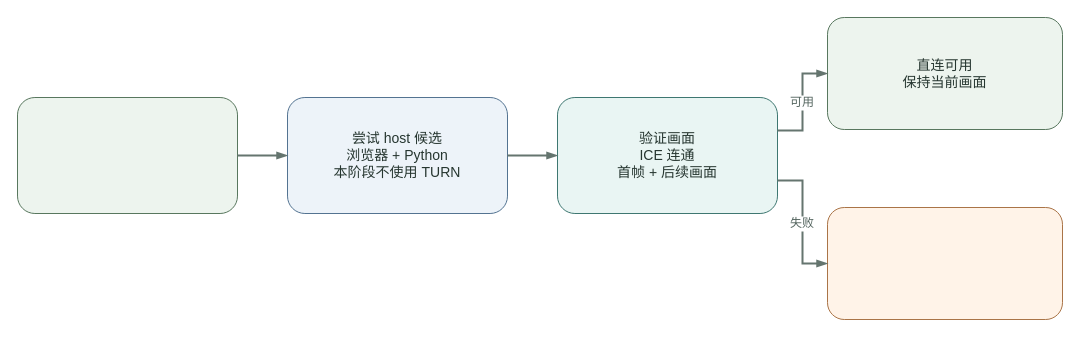
The diagram is 1080 pixels wide and 337 high, and some of its shapes have lost their labels. The shapes that lost their labels are listed below. From the top down, each one's box as (x1, y1, x2, y2) in pixels, then its label:
(16, 96, 238, 214): 打开网站 稳定域名经 Tunnel 网页入口可达
(826, 206, 1062, 320): 直连不可用 继续尝试其他路径
